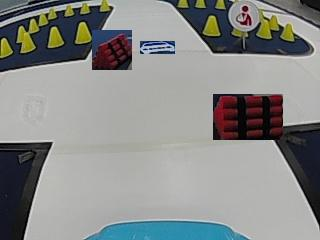cone: (47, 27, 64, 48), (203, 16, 220, 36), (75, 22, 91, 43), (20, 30, 35, 52), (257, 19, 272, 39), (0, 36, 13, 56), (281, 23, 294, 41), (28, 18, 39, 32), (99, 0, 110, 12), (64, 4, 74, 17), (38, 13, 48, 25), (47, 7, 57, 19), (80, 2, 90, 14), (176, 0, 189, 8), (215, 0, 226, 9), (194, 0, 206, 8)
patient: (231, 2, 259, 28)
